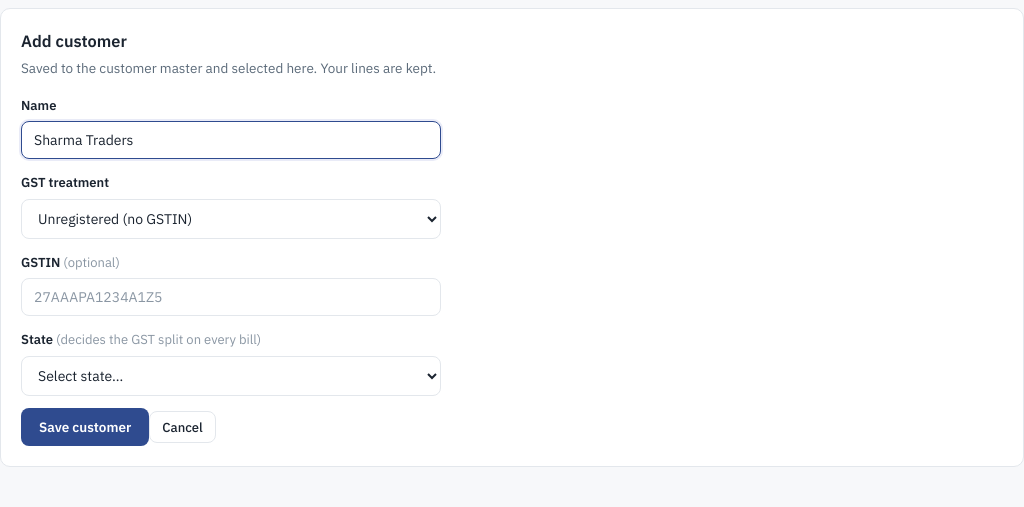
<QuickAddCustomer> › blocks submit when a registered customer has no GSTIN
This screenshot has width=1024, height=507.
Select "Registered (has a GSTIN)" in the dropdown labelled "GST treatment" at (231, 219), box [21, 199, 441, 239]
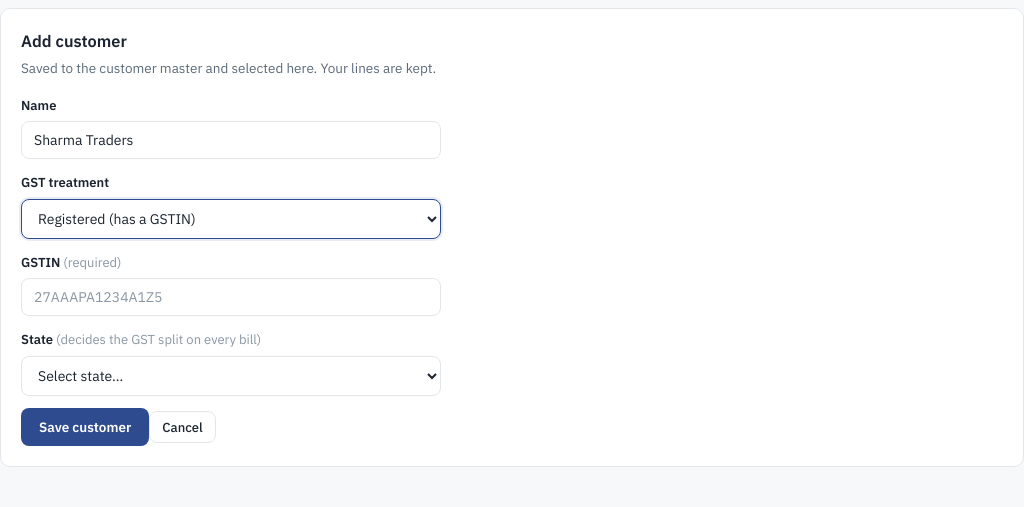
Select "09 — Uttar Pradesh" in the dropdown labelled "State (decides the GST split on every bill)" at (231, 376), box [21, 356, 441, 396]
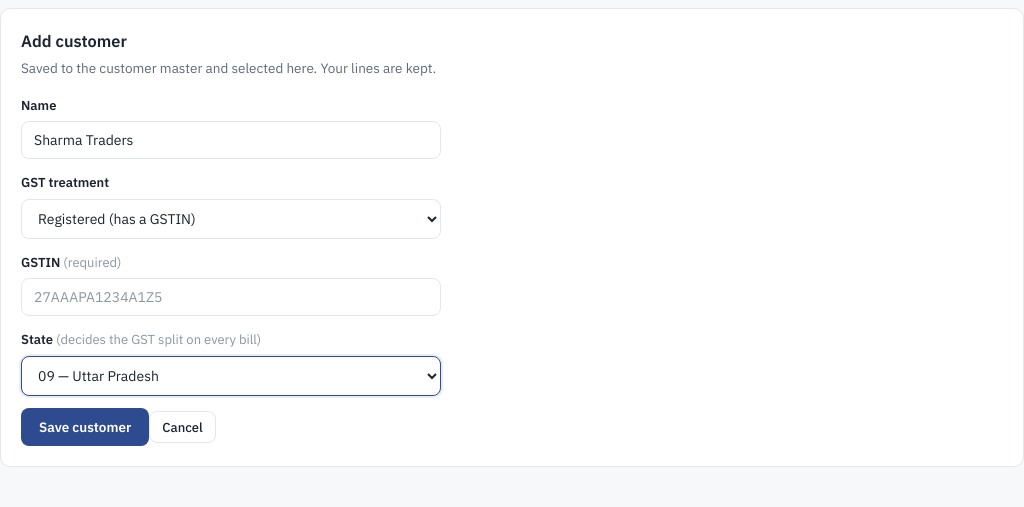
Click the button "Save customer".
click(85, 427)  # box [21, 408, 149, 446]
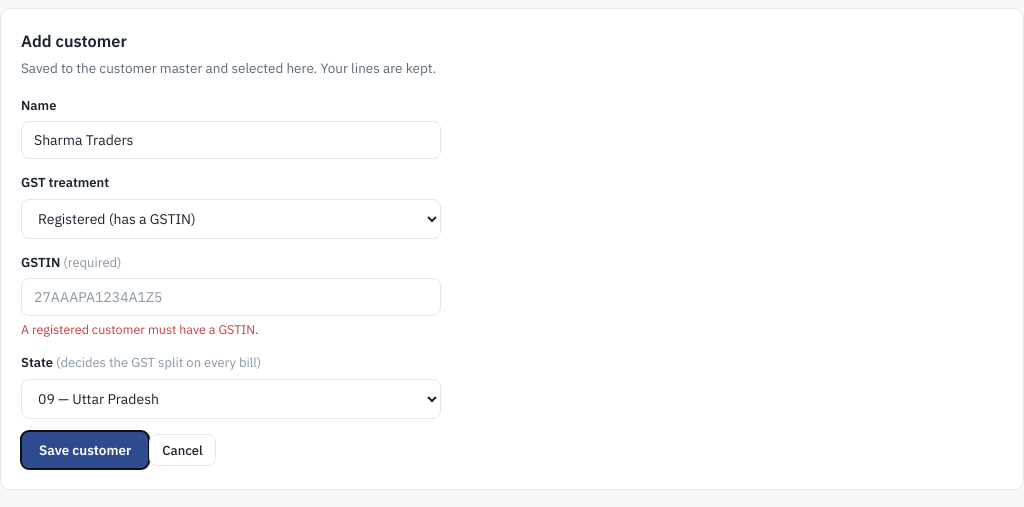
expect the text "A registered customer must have a GSTIN." is shown: met, box [21, 321, 258, 337]
